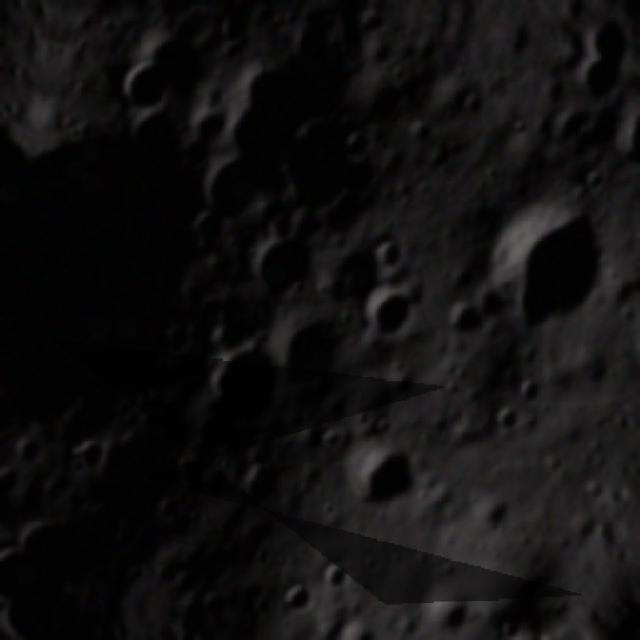crater: (0, 99, 232, 451), (469, 166, 633, 352), (194, 324, 294, 434), (261, 296, 356, 406), (190, 140, 288, 238), (235, 218, 330, 319), (336, 432, 429, 526), (350, 268, 436, 364), (96, 42, 184, 133), (412, 577, 486, 640), (283, 0, 339, 78), (598, 92, 640, 188), (359, 225, 418, 281), (567, 51, 624, 106), (440, 292, 488, 356), (310, 551, 364, 598), (272, 576, 319, 627), (496, 627, 557, 640)
